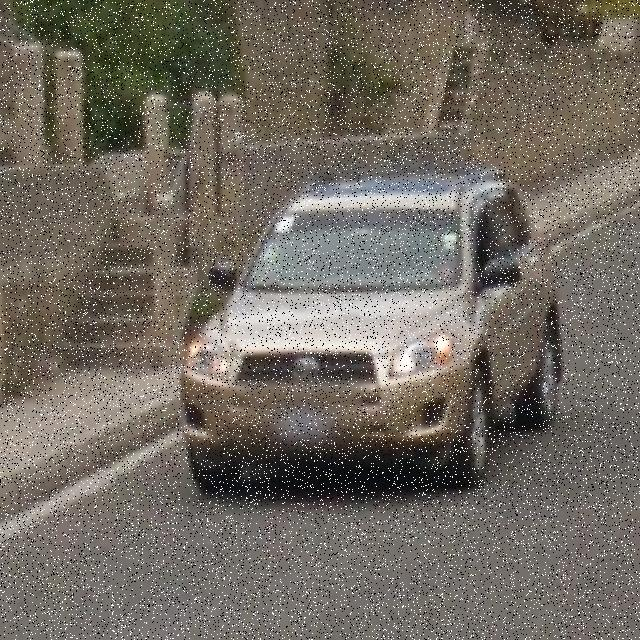cars: (173, 167, 560, 487)
